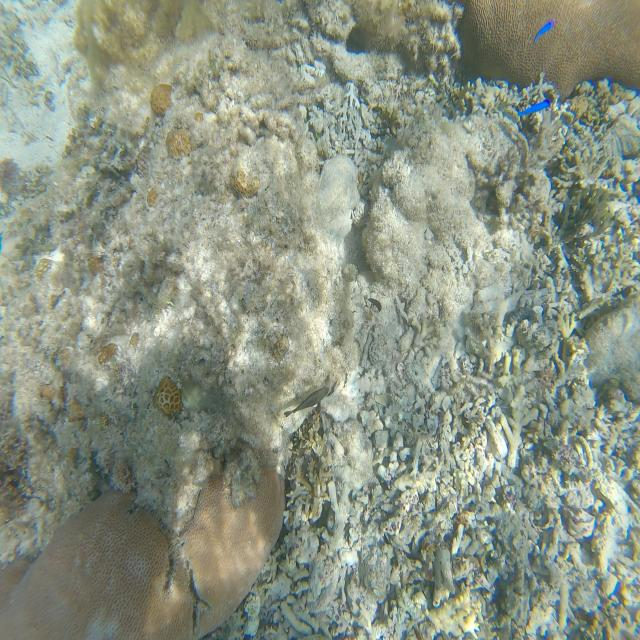kurohagi: (284, 386, 334, 416)
rurisuzumedai: (519, 99, 550, 116), (534, 20, 555, 43)
